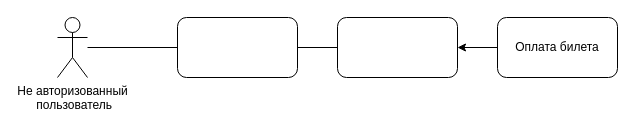
This 635x131 diagram has some shape labels left out. Each missing label, with the centre of its shape:
Поиск концертов по параметрам: point 237,47
Покупка билета: point 397,47
